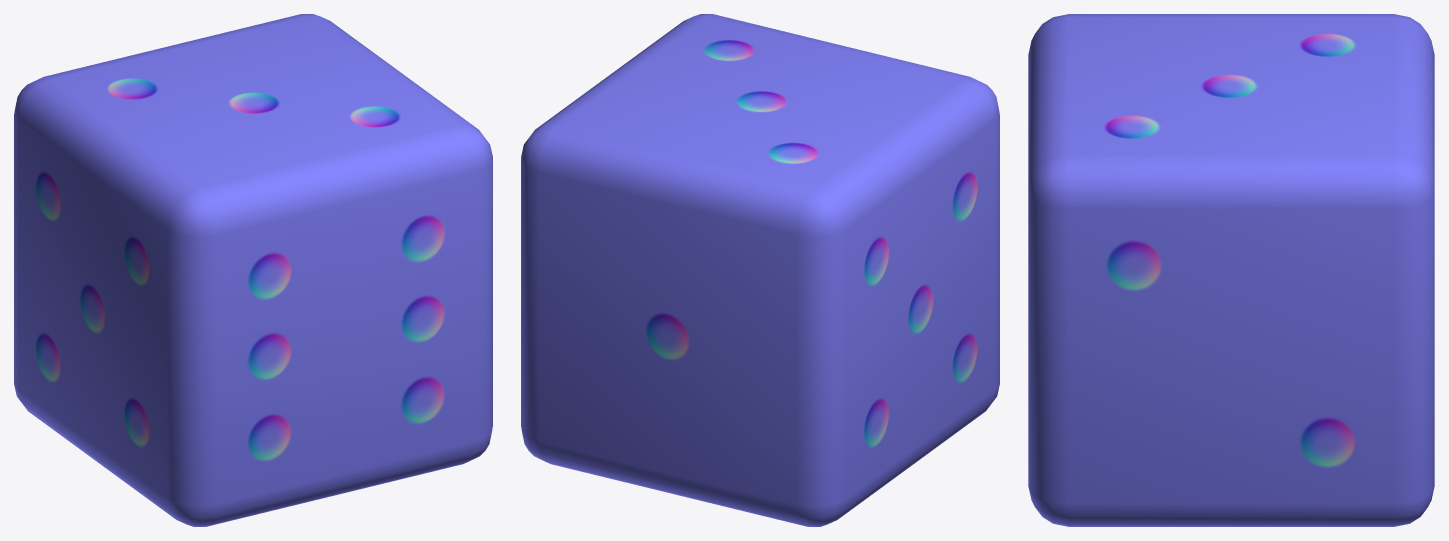
File: Dice.fbx
3 views of the same model, side by side, from view 1: azimuth 30°, elevation 25°; view 2: azimuth 150°, elevation 25°; view 3: azimuth 270°, elevation 25° (orthographic). The views are drawn at different scales.
Visible parts, largest first — view 1: Dice Mesh; view 2: Dice Mesh; view 3: Dice Mesh.
Boxes of the visible parts, x1,y1,x2,y2 form: Dice Mesh: (14, 14, 492, 526); Dice Mesh: (521, 14, 999, 526); Dice Mesh: (1028, 14, 1434, 526).
Size of the model in its own units: 100 by 100 by 100.
